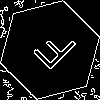F: (25, 25, 79, 79)
